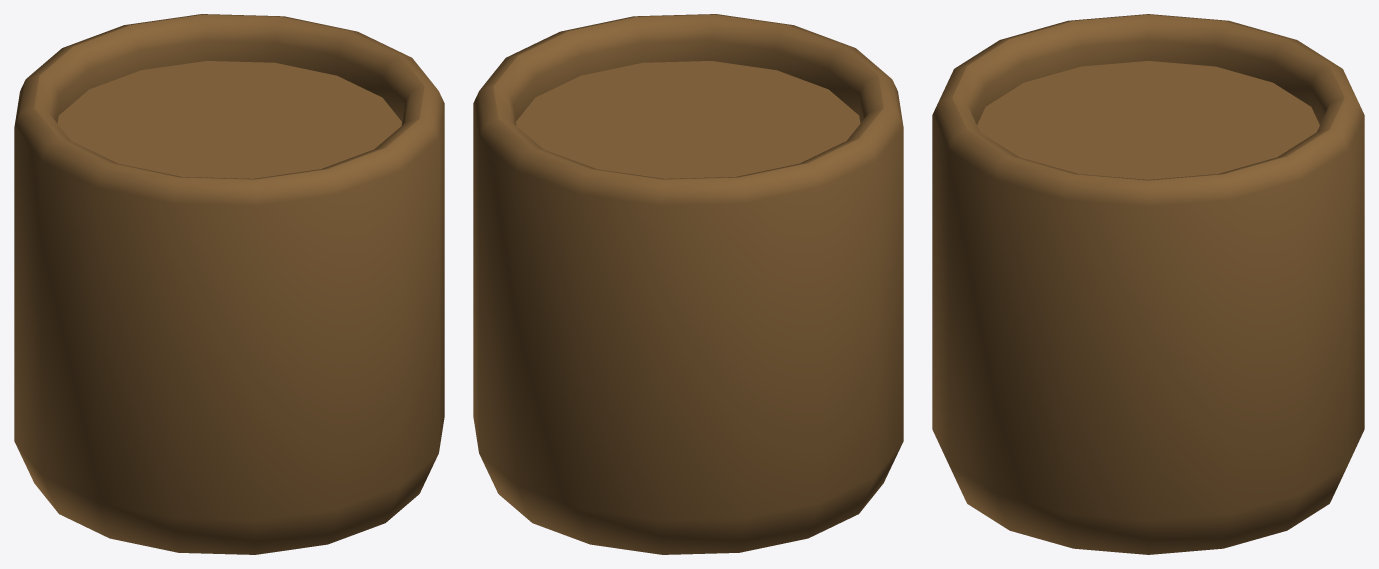
File: Saksi.fbx
The picture shows the model from 3 angles, left to right: view 1: azimuth 30°, elevation 25°; view 2: azimuth 150°, elevation 25°; view 3: azimuth 270°, elevation 25°; orthographic projection.
Parts seen in each view (by area): view 1: Saksi; view 2: Saksi; view 3: Saksi.
Boxes of the visible parts, box(x1,y1,x2,y2) form: Saksi: box(14, 14, 444, 554); Saksi: box(473, 14, 903, 554); Saksi: box(932, 14, 1364, 554).
Size of the model in its own units: 33.66 by 33.66 by 33.66.
